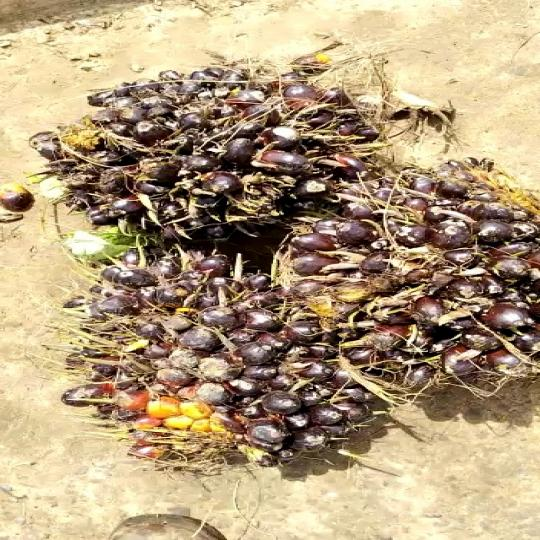mentah: (51, 248, 401, 480), (283, 162, 540, 414), (78, 66, 344, 247)
